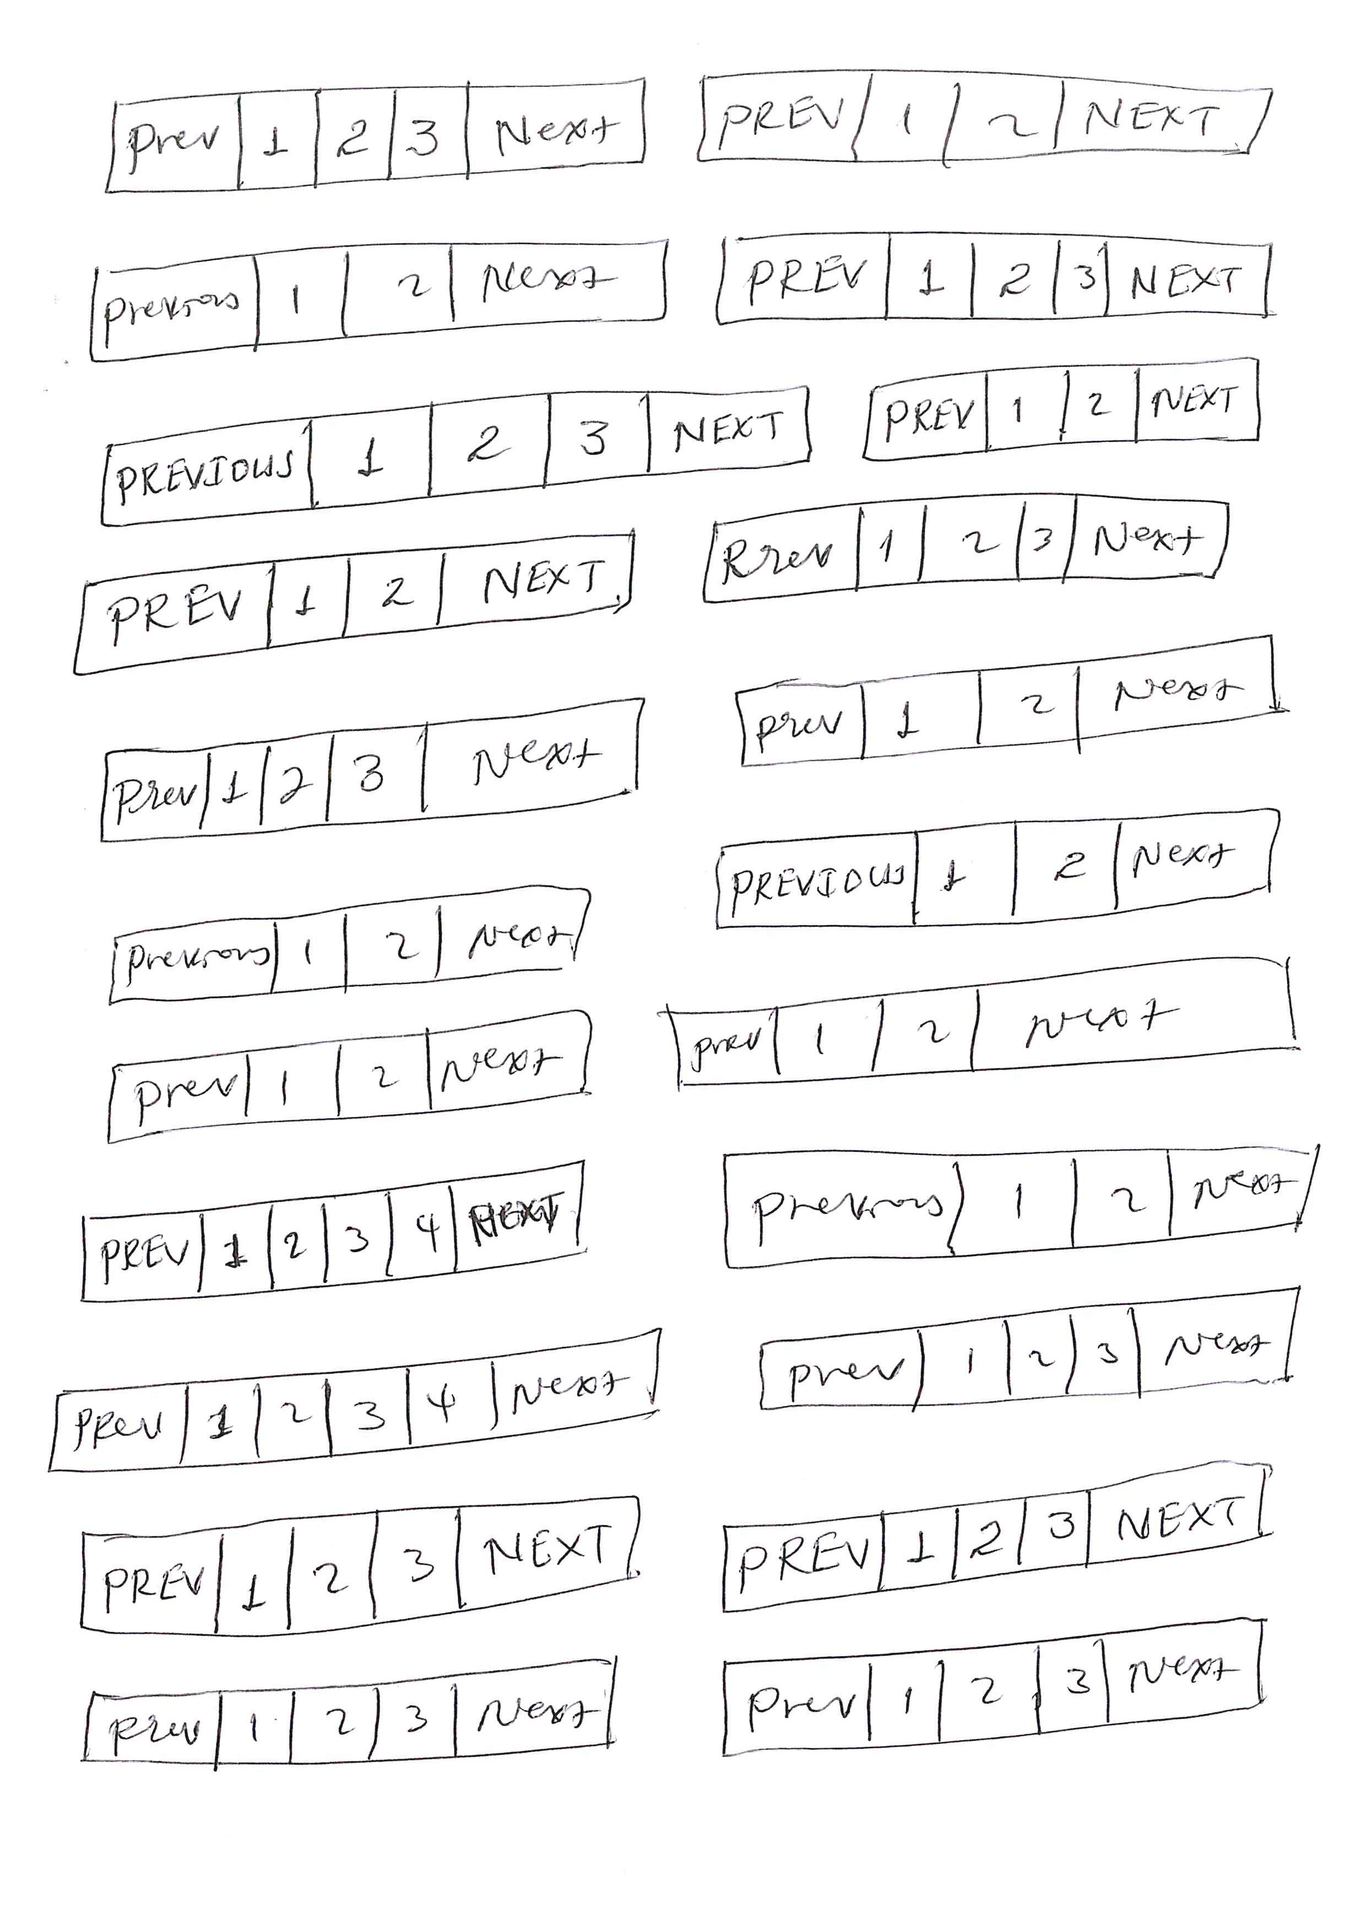Pagination: (99, 383, 816, 526), (46, 1326, 662, 1476), (724, 1459, 1268, 1615), (664, 955, 1295, 1088), (78, 1493, 640, 1640), (101, 696, 645, 843), (72, 534, 633, 676), (720, 1616, 1264, 1759), (733, 631, 1279, 770), (721, 1146, 1322, 1272), (78, 1158, 587, 1304), (89, 237, 670, 364), (758, 1283, 1302, 1412), (713, 807, 1280, 930), (106, 1008, 594, 1144), (102, 75, 648, 197), (701, 489, 1231, 608), (81, 1657, 616, 1765), (108, 884, 591, 1002), (696, 67, 1273, 163), (713, 228, 1273, 325), (862, 353, 1263, 464)
